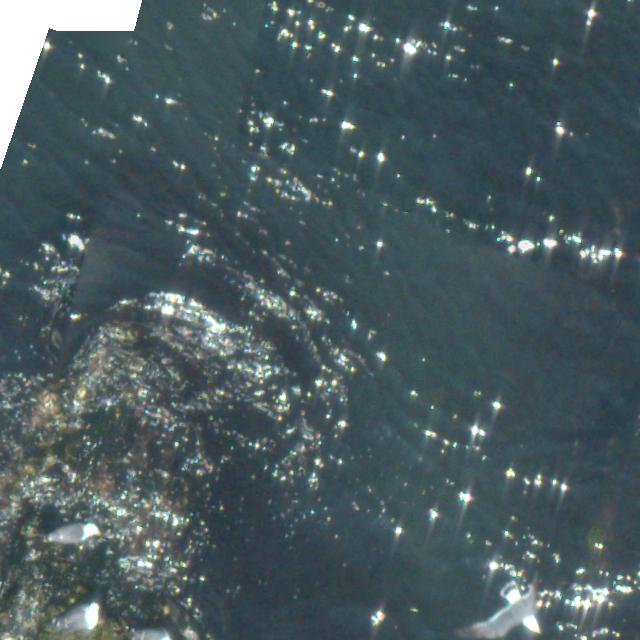F: (463, 581, 547, 637)
umineko: (57, 601, 102, 631), (53, 525, 102, 542)
